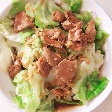juanxincairoupian: (1, 1, 109, 112)
